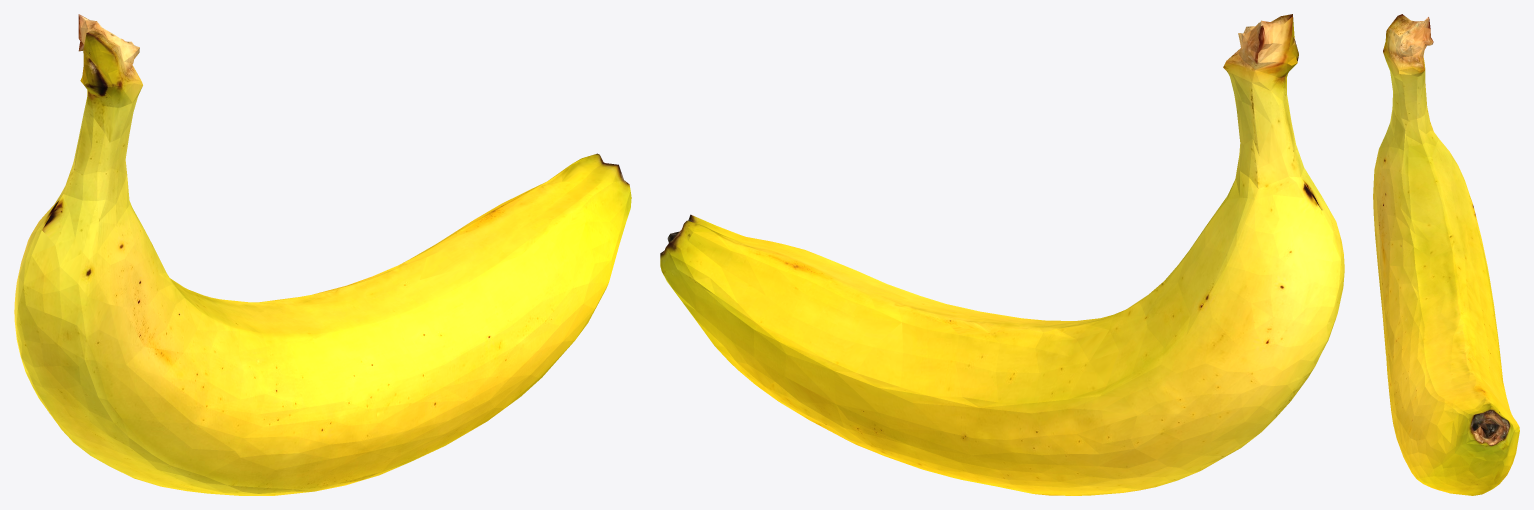
File: banana.glb
3 renders of one model, left to right at view 1: azimuth 30°, elevation 25°; view 2: azimuth 150°, elevation 25°; view 3: azimuth 270°, elevation 25°, orthographic. The views are drawn at different scales.
Parts seen in each view (by area): view 1: Object_35; view 2: Object_35; view 3: Object_35.
Part boxes in pixels (bbox=[...]): Object_35: bbox=[14, 14, 631, 495]; Object_35: bbox=[660, 14, 1344, 495]; Object_35: bbox=[1373, 14, 1519, 495].
Bounding box in the file's own units: 6.62 × 5.15 × 1.91.
1 material, 1 textured.
